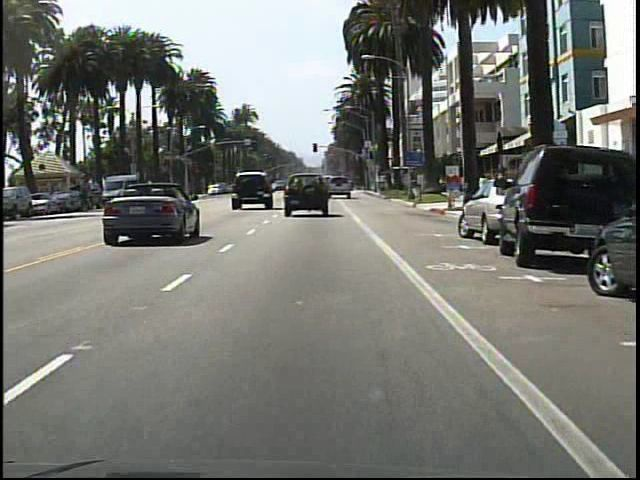person: (78, 178, 94, 213)
